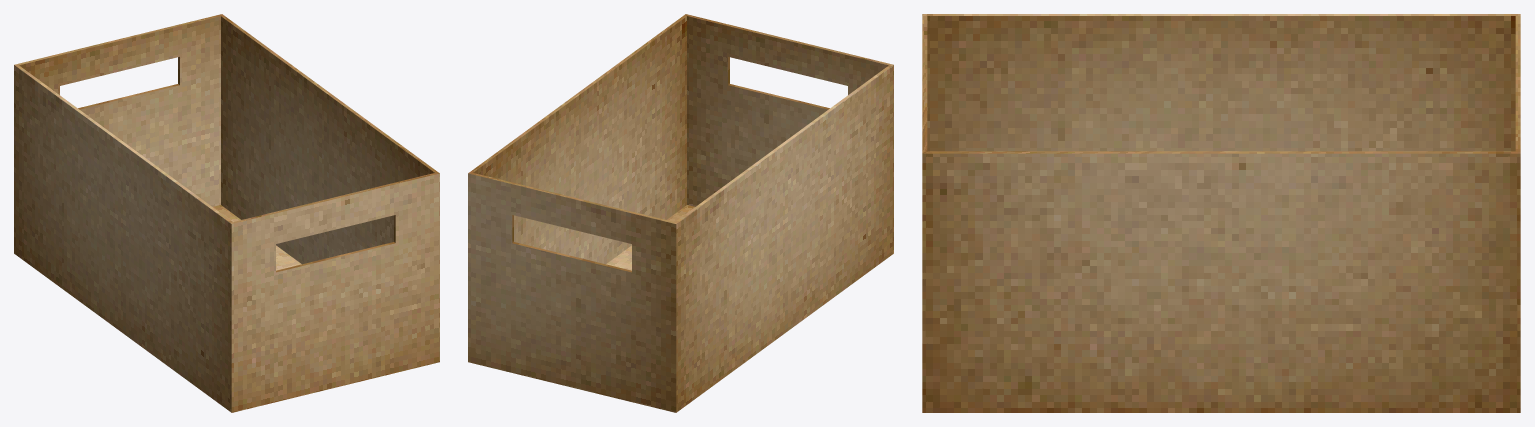
File: psx_low-poly_wooden_bin.glb
3 views of the same model, side by side, from view 1: azimuth 30°, elevation 25°; view 2: azimuth 150°, elevation 25°; view 3: azimuth 270°, elevation 25° (orthographic). The views are drawn at different scales.
Visible parts, largest first — view 1: box_0; view 2: box_0; view 3: box_0.
Part boxes in pixels (left/top/right/bottom): box_0: left=14, top=14, right=439, bottom=412; box_0: left=468, top=14, right=893, bottom=412; box_0: left=922, top=14, right=1520, bottom=412.
Bounding box in the file's own units: 1.03 × 0.8937 × 1.87.
2 materials, 1 textured.
